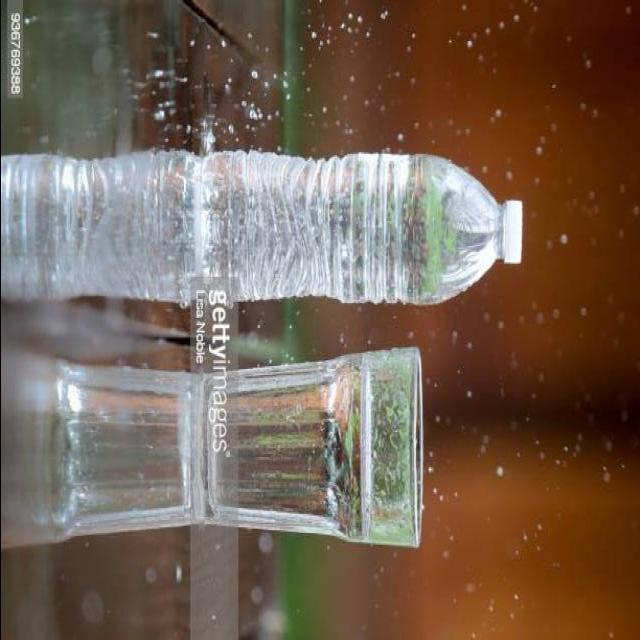cap: (500, 196, 527, 270)
not-crumbled: (190, 143, 532, 314)
